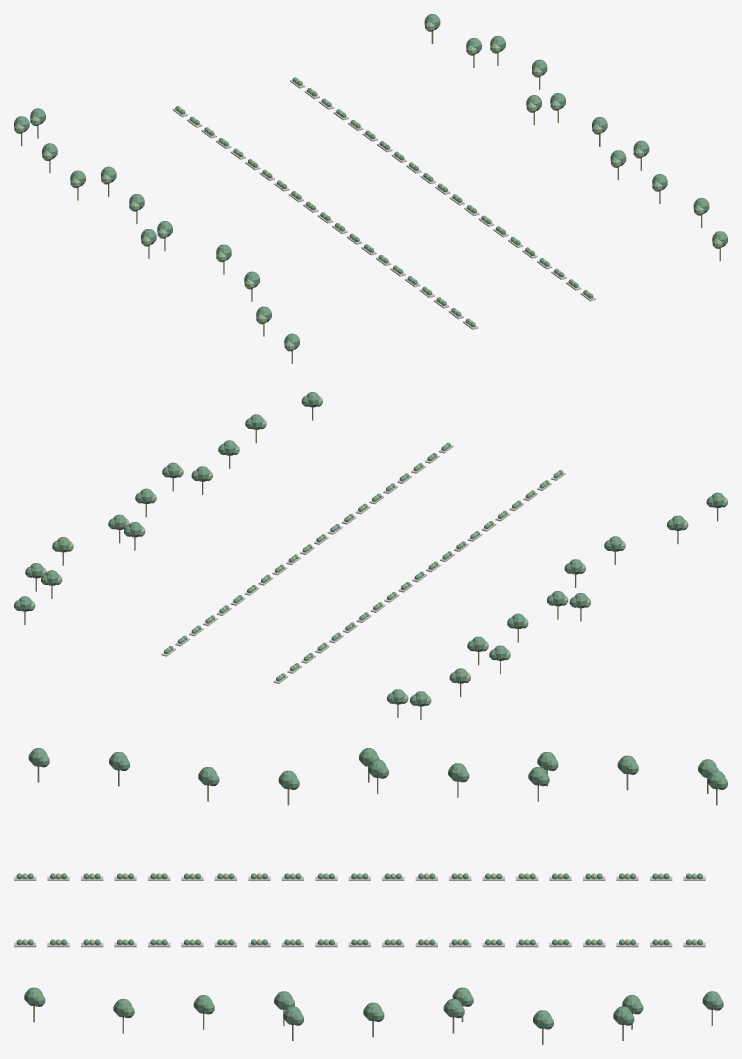
File: farmgate-greenery.gltf
3 views of the same model, one above another, from view 1: azimuth 30°, elevation 25°; view 2: azimuth 150°, elevation 25°; view 3: azimuth 270°, elevation 25° (orthographic). The views are drawn at different scales.
Parts seen in each view (by area): view 1: farmgate-greenery; view 2: farmgate-greenery; view 3: farmgate-greenery.
Boxes of the visible parts, x1,y1,x2,y2 form: farmgate-greenery: (14, 14, 727, 363); farmgate-greenery: (14, 392, 727, 719); farmgate-greenery: (14, 748, 727, 1044).
Bounding box in the file's own units: 144 × 8.35 × 160.
